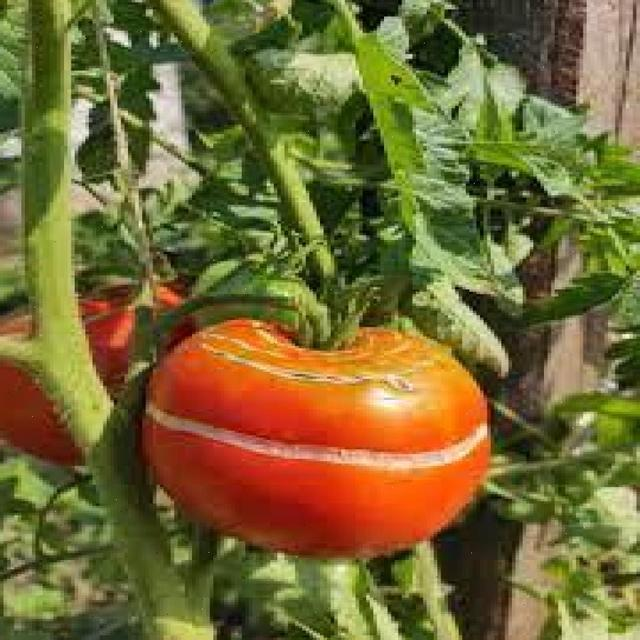Cracking Fruit: (95, 265, 332, 323)
